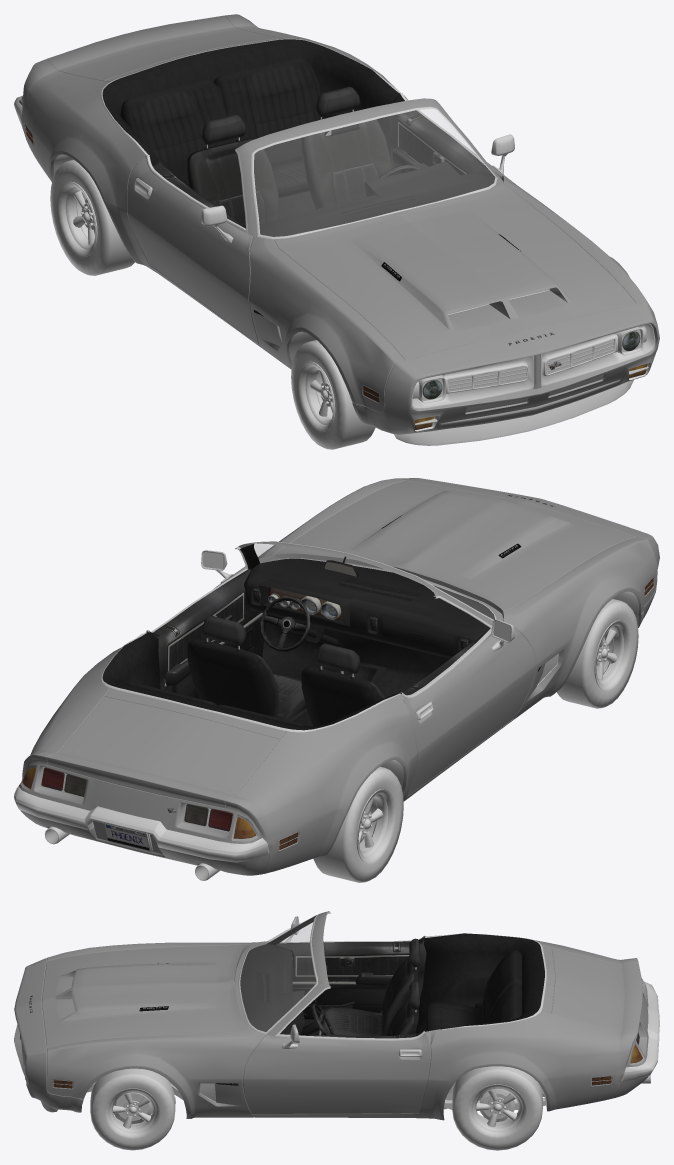
Rendered from car.fbx.
3 views of the same model, one above another, from view 1: azimuth 30°, elevation 25°; view 2: azimuth 150°, elevation 25°; view 3: azimuth 270°, elevation 25° (orthographic). The views are drawn at different scales.
Parts seen in each view (by area): view 1: Body, Hood, Seats, Windshield, Door_FR, Interior, Grill, Trunkdoor, Dashboard, Wheel_RR, Wheel_FR, Doorcard_FL (+5 smaller); view 2: Body, Hood, Trunkdoor, Dashboard, Seats, Interior, Door_FR, Wheel_RR, Doorcard_FL, Wheel_FR, Bumper_rear, Bottom (+10 smaller); view 3: Body, Hood, Door_FL, Seats, Interior, Doorcard_FR, Wheel_RL, Trunkdoor, Windshield, Wheel_FL, Dashboard, Bottom (+6 smaller).
Boxes of the visible parts, <box> form: Body: <box>19,14,659,434</box>; Hood: <box>274,184,635,360</box>; Seats: <box>120,57,392,227</box>; Windshield: <box>254,109,494,236</box>; Door_FR: <box>127,157,259,344</box>; Interior: <box>102,39,494,219</box>; Grill: <box>411,323,655,408</box>; Trunkdoor: <box>47,15,278,81</box>; Dashboard: <box>259,161,495,236</box>; Wheel_RR: <box>50,159,134,275</box>; Wheel_FR: <box>291,340,375,449</box>; Doorcard_FL: <box>389,94,491,175</box>; Body: <box>19,478,659,875</box>; Hood: <box>274,481,635,612</box>; Trunkdoor: <box>46,697,279,807</box>; Dashboard: <box>245,558,494,658</box>; Seats: <box>126,615,384,726</box>; Interior: <box>102,544,448,730</box>; Door_FR: <box>402,628,536,795</box>; Wheel_RR: <box>313,766,403,882</box>; Doorcard_FL: <box>149,548,265,698</box>; Wheel_FR: <box>557,599,638,708</box>; Bumper_rear: <box>14,786,269,862</box>; Bottom: <box>48,541,653,864</box>; Body: <box>14,911,648,1120</box>; Hood: <box>42,944,249,1047</box>; Door_FL: <box>243,1033,430,1113</box>; Seats: <box>321,938,522,1035</box>; Interior: <box>266,916,544,1035</box>; Doorcard_FR: <box>276,922,426,1019</box>; Wheel_RL: <box>452,1066,542,1150</box>; Trunkdoor: <box>551,947,642,1030</box>; Windshield: <box>240,916,315,1031</box>; Wheel_FL: <box>90,1068,175,1150</box>; Dashboard: <box>240,944,304,1034</box>; Bottom: <box>53,912,611,1115</box>.
Bounding box in the file's own units: 209 × 132 × 489.
